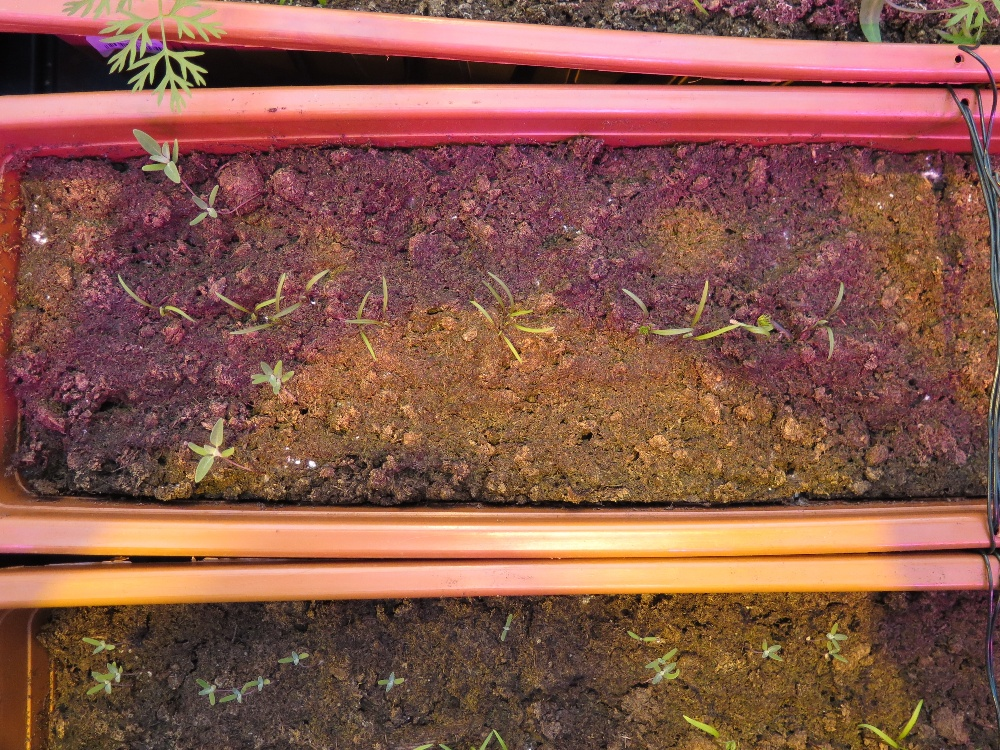crop: (450, 247, 559, 372), (609, 270, 757, 358), (327, 249, 421, 379), (739, 263, 855, 351), (214, 265, 321, 345), (112, 267, 202, 354), (855, 683, 934, 750), (684, 706, 780, 750), (405, 720, 525, 750)
weed: (137, 129, 230, 206), (607, 615, 682, 699), (180, 415, 255, 490), (82, 622, 139, 711), (250, 349, 323, 408), (187, 665, 291, 706), (821, 617, 857, 663), (373, 663, 414, 697), (262, 649, 323, 670), (762, 640, 782, 674)
